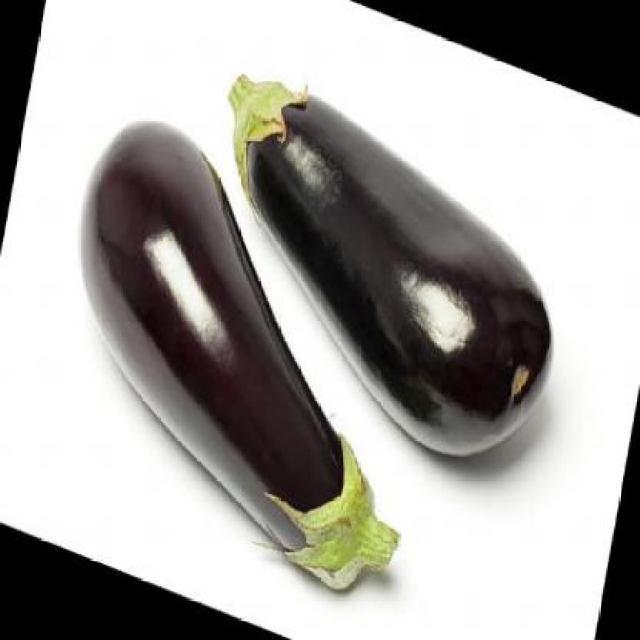eggplant: (70, 117, 407, 602), (217, 67, 559, 468)
